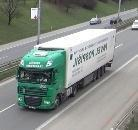car: (131, 19, 138, 30), (90, 18, 100, 25)
truck: (16, 29, 116, 110)
